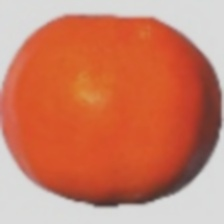tangerine: (34, 47, 214, 215)
